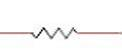resistor: (27, 24, 83, 41)
